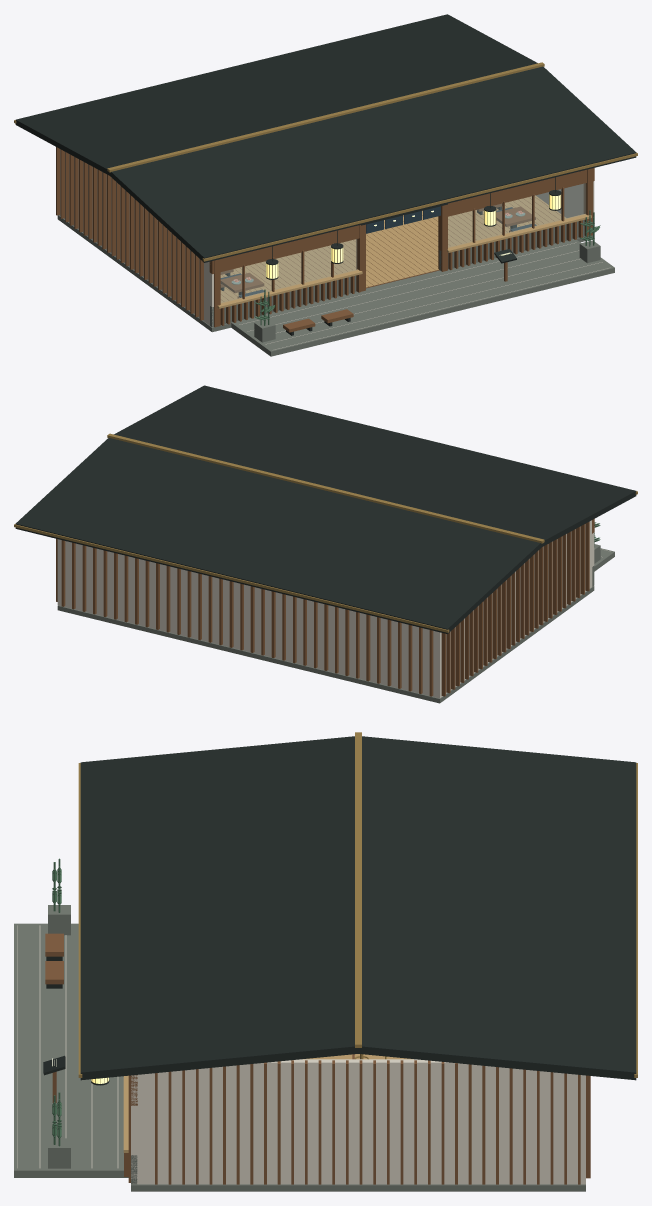
Rendered from sushi.glb.
3 renders of one model, top to bottom at view 1: azimuth 30°, elevation 25°; view 2: azimuth 150°, elevation 25°; view 3: azimuth 270°, elevation 25°, orthographic. The views are drawn at different scales.
Visible parts, largest first — view 1: MoriSushi-dark, MoriSushi-cedar, MoriSushi-stone, MoriSushi-hinoki, MoriSushi-glass, MoriSushi-plaster, MoriSushi-bronze, MoriSushi-indigo, MoriSushi-paper, MoriSushi-leaf; view 2: MoriSushi-dark, MoriSushi-cedar, MoriSushi-plaster, MoriSushi-bronze, MoriSushi-stone; view 3: MoriSushi-dark, MoriSushi-plaster, MoriSushi-stone, MoriSushi-cedar, MoriSushi-bronze, MoriSushi-hinoki, MoriSushi-leaf.
Part boxes in pixels (<box>): MoriSushi-dark: <box>15,14,636,335</box>; MoriSushi-cedar: <box>56,147,594,332</box>; MoriSushi-stone: <box>57,215,614,356</box>; MoriSushi-hinoki: <box>217,195,591,308</box>; MoriSushi-glass: <box>221,183,585,302</box>; MoriSushi-plaster: <box>59,149,610,349</box>; MoriSushi-bronze: <box>14,62,637,278</box>; MoriSushi-indigo: <box>220,206,536,297</box>; MoriSushi-paper: <box>266,194,560,278</box>; MoriSushi-leaf: <box>238,210,600,325</box>; MoriSushi-dark: <box>15,385,636,633</box>; MoriSushi-cedar: <box>56,519,594,696</box>; MoriSushi-plaster: <box>57,520,610,698</box>; MoriSushi-bronze: <box>14,433,637,632</box>; MoriSushi-stone: <box>57,544,614,703</box>; MoriSushi-dark: <box>43,736,636,1085</box>; MoriSushi-plaster: <box>17,925,585,1184</box>; MoriSushi-stone: <box>14,905,585,1191</box>; MoriSushi-cedar: <box>45,933,590,1184</box>; MoriSushi-bronze: <box>78,732,637,1083</box>; MoriSushi-hinoki: <box>123,1054,413,1152</box>; MoriSushi-leaf: <box>52,858,61,1146</box>.
Bounding box in the file's own units: 22.75 × 5.64 × 19.2.
